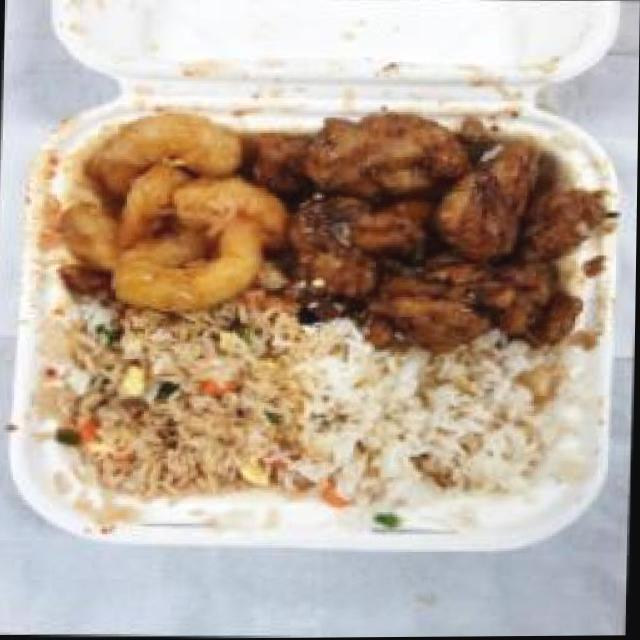Fried Rice: (54, 301, 316, 503)
Honey Walnut Shrimp: (46, 108, 294, 318)
The Original Orange Chicken: (254, 106, 620, 363)
White Steamed Rice: (314, 342, 564, 518)
